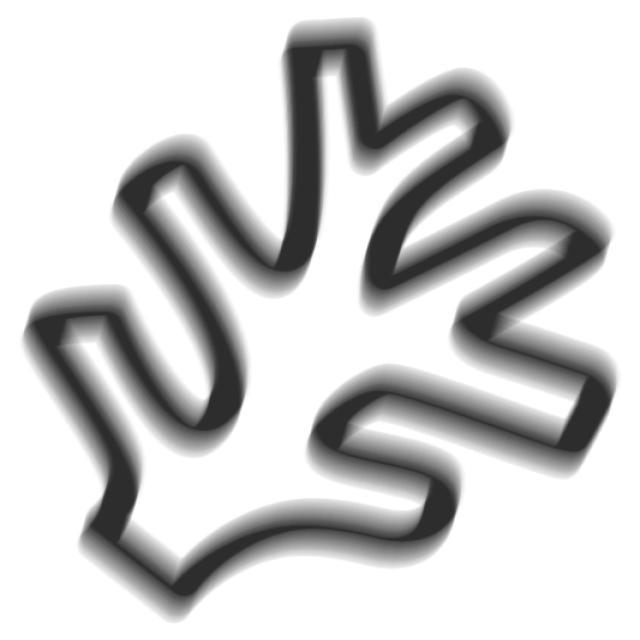coral: (15, 10, 632, 633)
